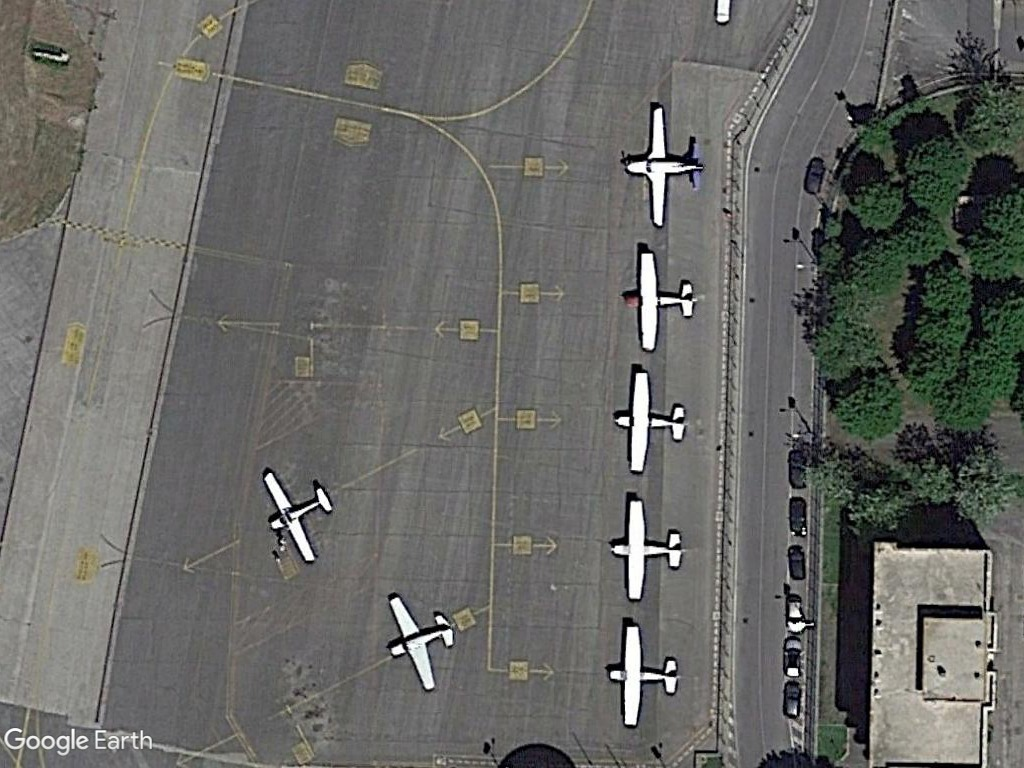trainer: (616, 101, 707, 231), (618, 248, 704, 357), (605, 494, 686, 607), (603, 621, 682, 732), (608, 368, 688, 477), (382, 592, 456, 695), (260, 468, 335, 567)
